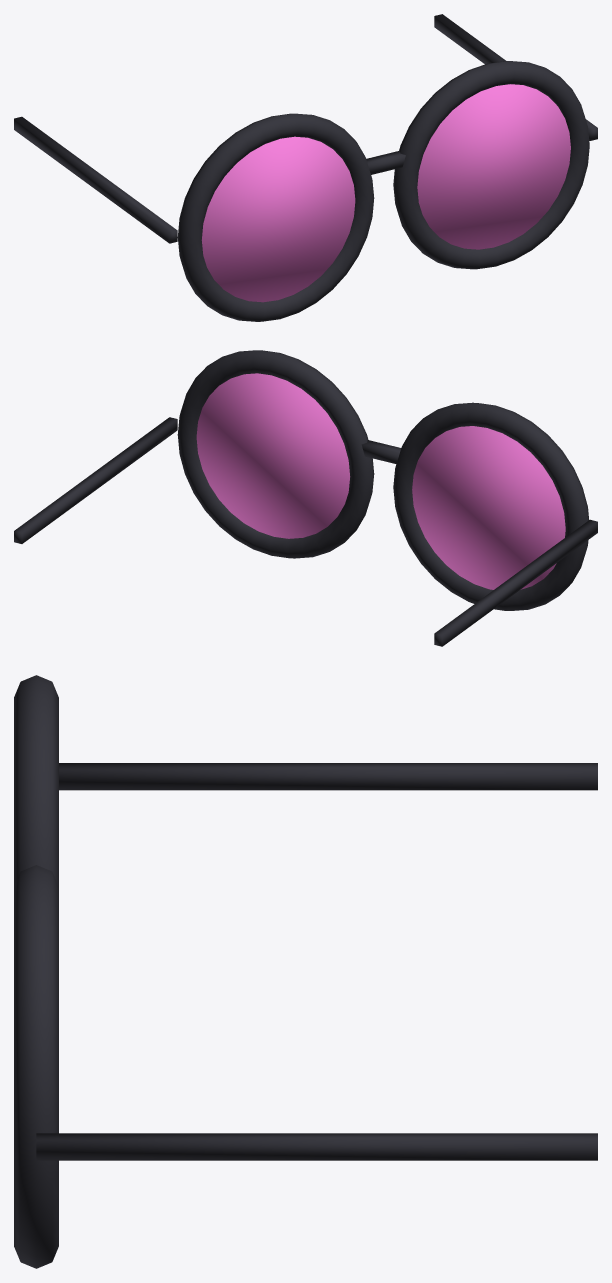
The model's file is sunglasses.glb.
3 views of the same model, one above another, from view 1: azimuth 30°, elevation 25°; view 2: azimuth 150°, elevation 25°; view 3: azimuth 270°, elevation 25° (orthographic). The views are drawn at different scales.
Parts seen in each view (by area): view 1: sunglasses; view 2: sunglasses; view 3: sunglasses.
Part boxes in pixels (box(x1,y1,x2,y2)): sunglasses: box(14, 14, 597, 321); sunglasses: box(14, 350, 597, 646); sunglasses: box(14, 675, 597, 1268).
Size of the model in its own units: 0.159 by 0.072 by 0.104.
